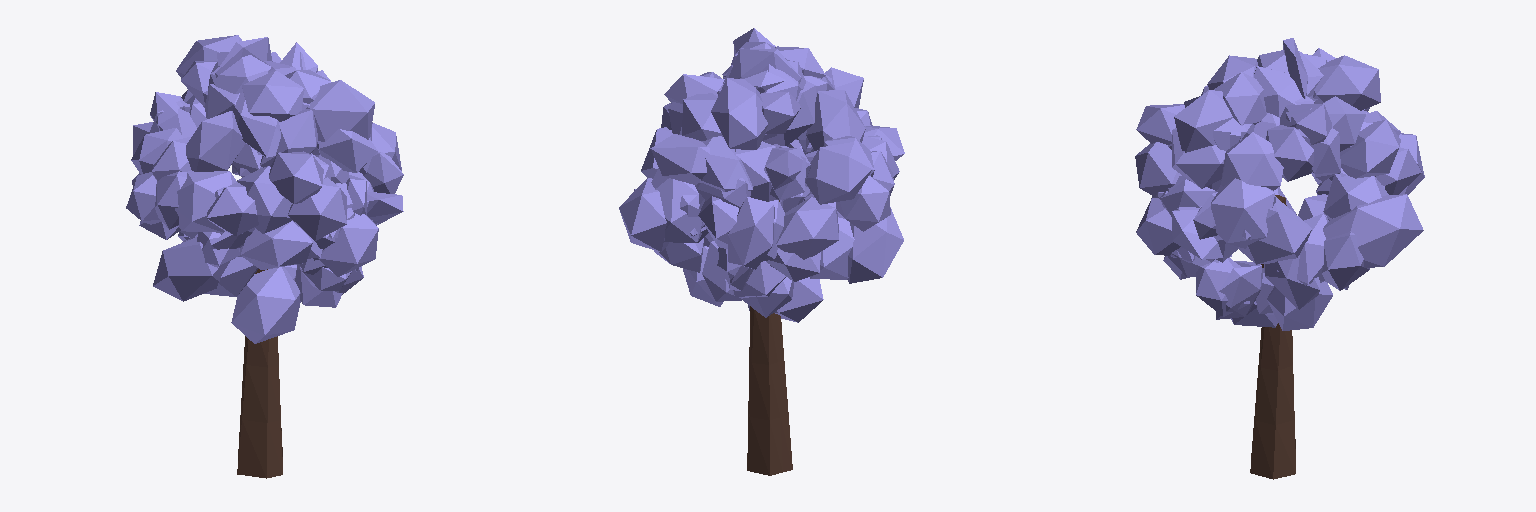
The model's file is tree.obj.
The picture shows the model from 3 angles: view 1: azimuth 30°, elevation 25°; view 2: azimuth 150°, elevation 25°; view 3: azimuth 270°, elevation 25°; orthographic projection.
Size of the model in its own units: 83.62 by 139 by 85.91.